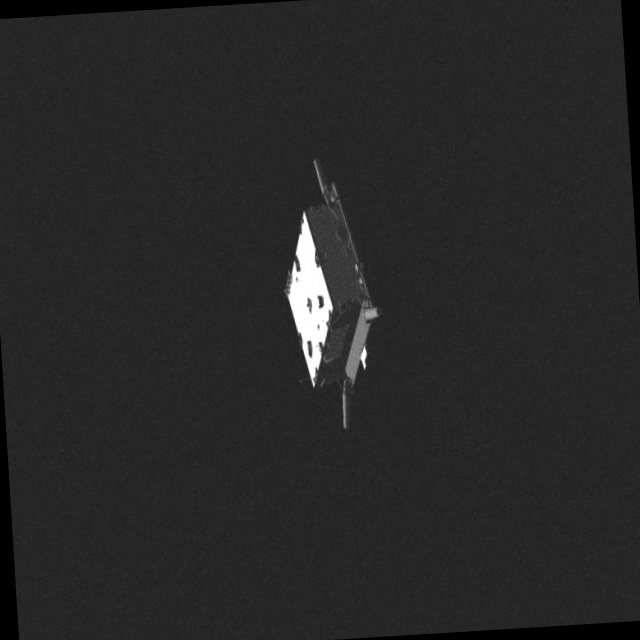medium_debris: (274, 154, 390, 428)
